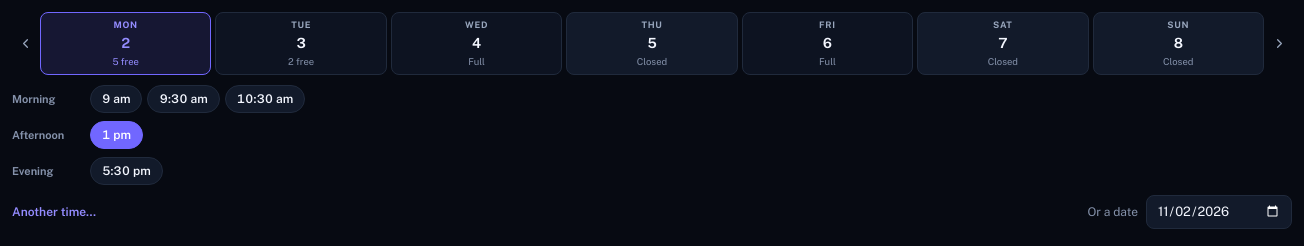
the free-time picker › moves to another day, keeping to the same time of day where it can
The width and height of the screenshot is (1304, 246).
Click the radio button with class "cal-daychip" showing "Tue 3 2 free".
click(301, 43)  # box [215,12,387,75]
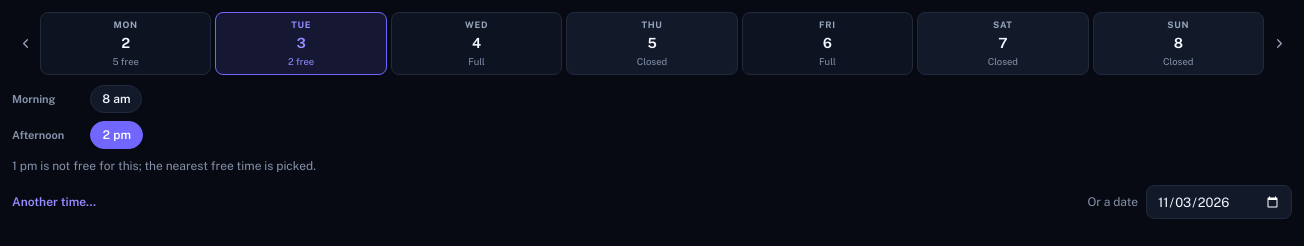
Now the radio button with class "is-on" reads "2 pm", box [90,121,143,149]
